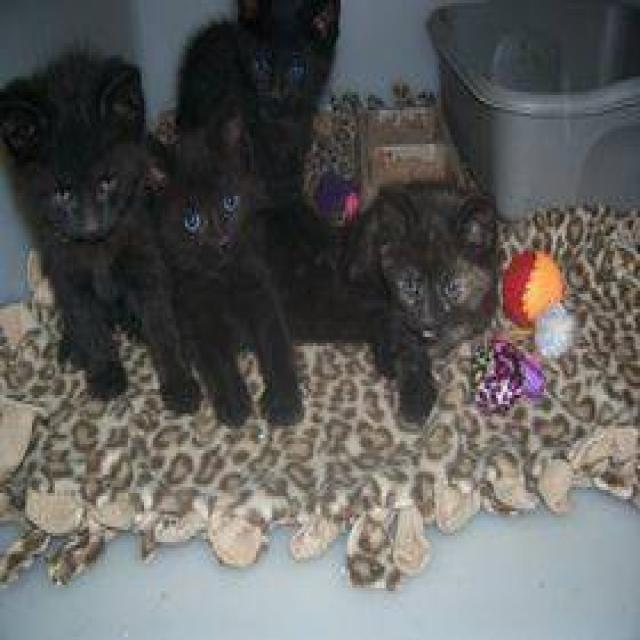cat: (231, 157, 526, 459), (123, 87, 345, 477), (5, 34, 198, 449), (170, 0, 356, 230)
